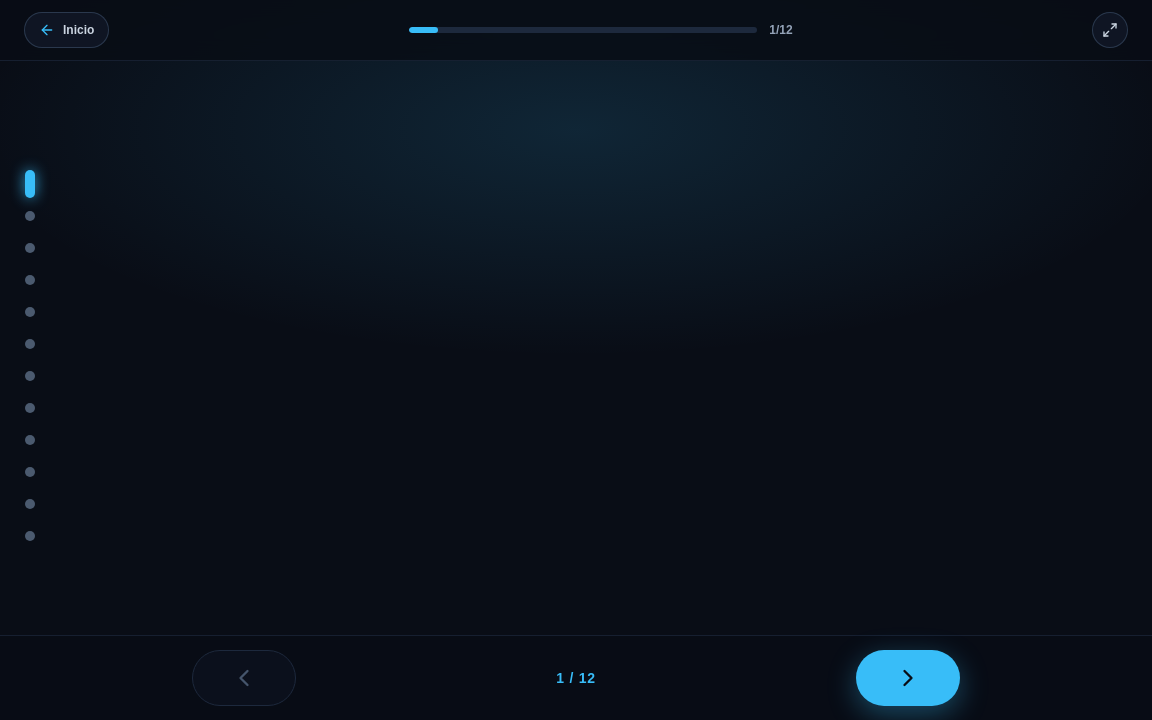
Test: DEMO competition presentation › advances to Slide 2 without diagnosis badge or bar and reveals 550.000 and 900.000 after 5 seconds
Click the button named "Siguiente diapositiva" at (908, 678), box top-left (856, 650), bottom-right (960, 706)
Wait 7000 ms
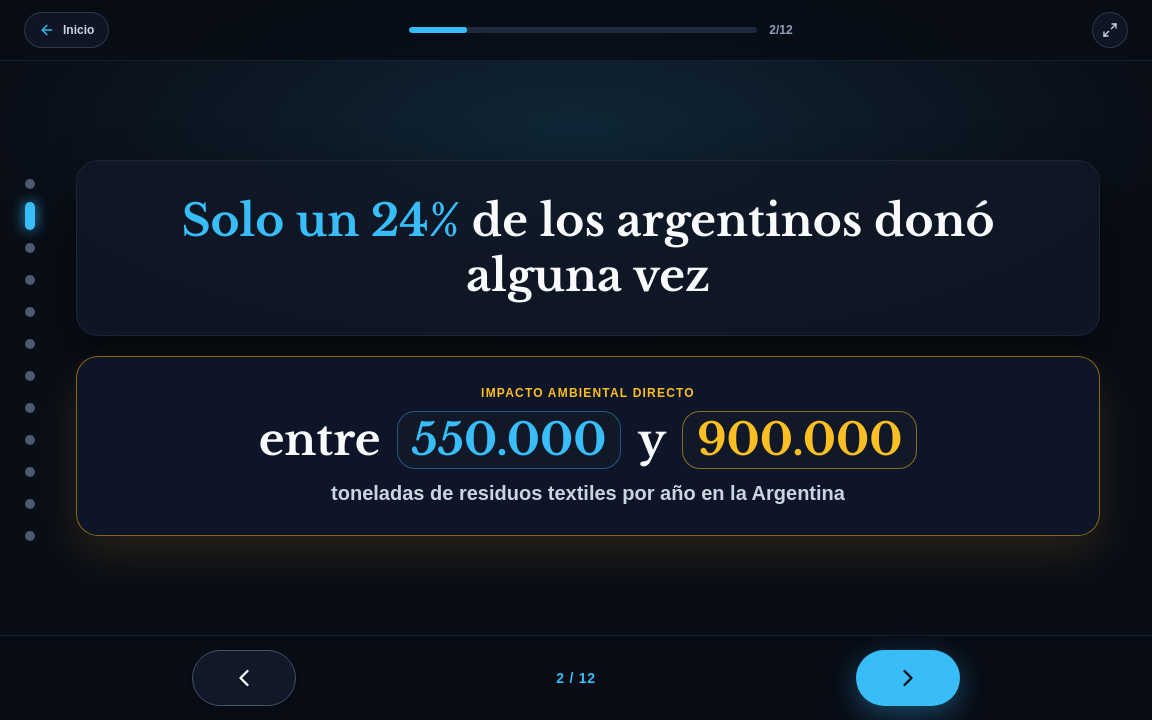
Check: the heading "Solo un 24% de los argentinos donó alguna vez" is shown, box top-left (181, 193), bottom-right (995, 303)
Check: the text "550.000" is shown, box top-left (397, 411), bottom-right (622, 470)
Check: the text "900.000" is shown, box top-left (682, 411), bottom-right (917, 470)
